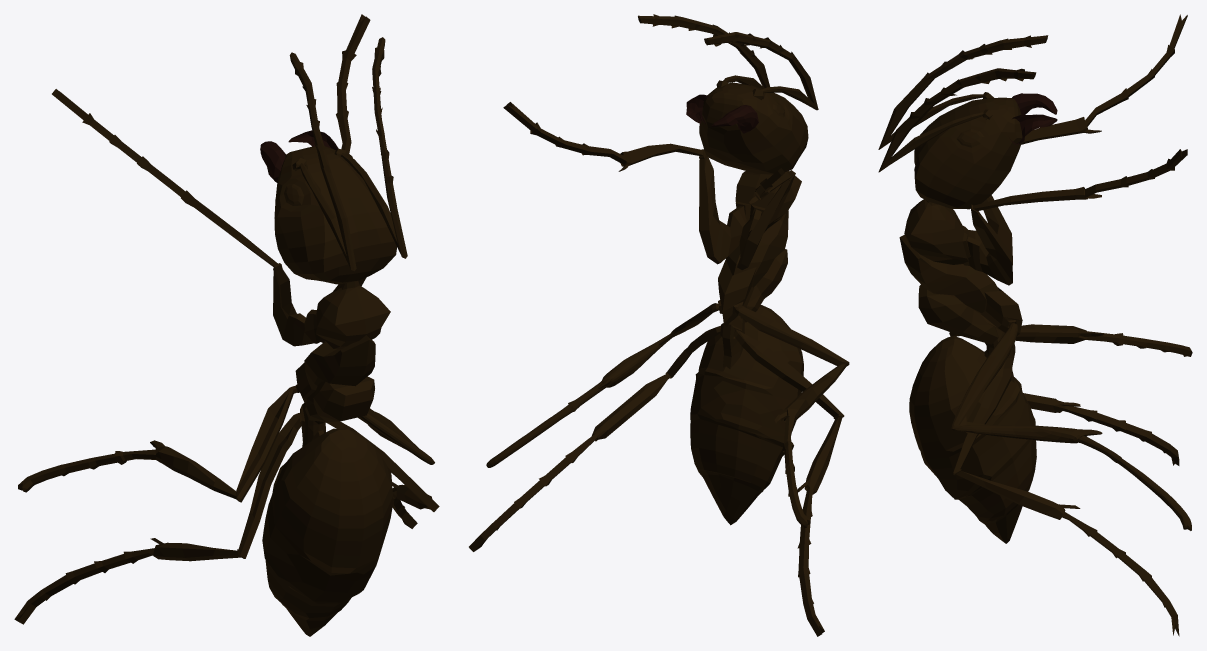
Rendered from Ant_Skin2.obj.
3 views of the same model, side by side, from view 1: azimuth 30°, elevation 25°; view 2: azimuth 150°, elevation 25°; view 3: azimuth 270°, elevation 25° (orthographic). The views are drawn at different scales.
Parts seen in each view (by area): view 1: Cube.001_Cube.002, Plane.036_Plane.050, Plane.020_Plane.039, Plane.021_Plane.040, Plane.022_Plane.041, Plane.035_Plane.049, Plane.024_Plane.043, Plane.034_Plane.048, Plane.023_Plane.042, Plane.028_Plane.047, Plane.016_Plane.035, Plane.018_Plane.037 (+2 smaller); view 2: Cube.001_Cube.002, Plane.036_Plane.050, Plane.018_Plane.037, Plane.020_Plane.039, Plane.021_Plane.040, Plane.016_Plane.035, Plane.017_Plane.036, Plane.022_Plane.041, Plane.024_Plane.043, Plane.023_Plane.042, Plane.034_Plane.048, Plane.035_Plane.049 (+4 smaller); view 3: Cube.001_Cube.002, Plane.036_Plane.050, Plane.017_Plane.036, Plane.016_Plane.035, Plane.018_Plane.037, Plane.035_Plane.049, Plane.034_Plane.048, Plane.022_Plane.041, Plane.023_Plane.042, Plane.024_Plane.043, Plane.028_Plane.047, Plane.021_Plane.040 (+4 smaller).
Boxes of the visible parts, x1=… form: Cube.001_Cube.002: x1=262, y1=428, x2=392, y2=636; Plane.036_Plane.050: x1=274, y1=146, x2=396, y2=284; Plane.020_Plane.039: x1=14, y1=413, x2=302, y2=624; Plane.021_Plane.040: x1=18, y1=385, x2=297, y2=502; Plane.022_Plane.041: x1=52, y1=89, x2=326, y2=346; Plane.035_Plane.049: x1=315, y1=281, x2=390, y2=348; Plane.024_Plane.043: x1=289, y1=52, x2=356, y2=271; Plane.034_Plane.048: x1=304, y1=335, x2=375, y2=390; Plane.023_Plane.042: x1=334, y1=37, x2=407, y2=258; Plane.028_Plane.047: x1=305, y1=376, x2=374, y2=422; Plane.016_Plane.035: x1=326, y1=421, x2=439, y2=528; Plane.018_Plane.037: x1=333, y1=14, x2=370, y2=291; Cube.001_Cube.002: x1=690, y1=305, x2=803, y2=525; Plane.036_Plane.050: x1=699, y1=82, x2=808, y2=174; Plane.018_Plane.037: x1=503, y1=102, x2=746, y2=264; Plane.020_Plane.039: x1=733, y1=329, x2=844, y2=636; Plane.021_Plane.040: x1=734, y1=304, x2=849, y2=528; Plane.016_Plane.035: x1=469, y1=325, x2=720, y2=551; Plane.017_Plane.036: x1=486, y1=303, x2=719, y2=467; Plane.022_Plane.041: x1=737, y1=168, x2=795, y2=270; Plane.024_Plane.043: x1=704, y1=32, x2=818, y2=110; Plane.023_Plane.042: x1=638, y1=14, x2=769, y2=88; Plane.034_Plane.048: x1=725, y1=210, x2=788, y2=287; Plane.035_Plane.049: x1=735, y1=171, x2=801, y2=227; Cube.001_Cube.002: x1=909, y1=336, x2=1036, y2=543; Plane.036_Plane.050: x1=914, y1=97, x2=1022, y2=209; Plane.017_Plane.036: x1=951, y1=323, x2=1191, y2=530; Plane.016_Plane.035: x1=953, y1=347, x2=1179, y2=636; Plane.018_Plane.037: x1=963, y1=149, x2=1187, y2=285; Plane.035_Plane.049: x1=904, y1=199, x2=970, y2=264; Plane.034_Plane.048: x1=899, y1=234, x2=999, y2=313; Plane.022_Plane.041: x1=968, y1=14, x2=1187, y2=264; Plane.023_Plane.042: x1=878, y1=68, x2=1036, y2=172; Plane.024_Plane.043: x1=878, y1=35, x2=1048, y2=149; Plane.028_Plane.047: x1=918, y1=285, x2=998, y2=344; Plane.021_Plane.040: x1=949, y1=324, x2=1192, y2=356.
Bounding box in the file's own units: 1.44 × 1.98 × 1.09.
